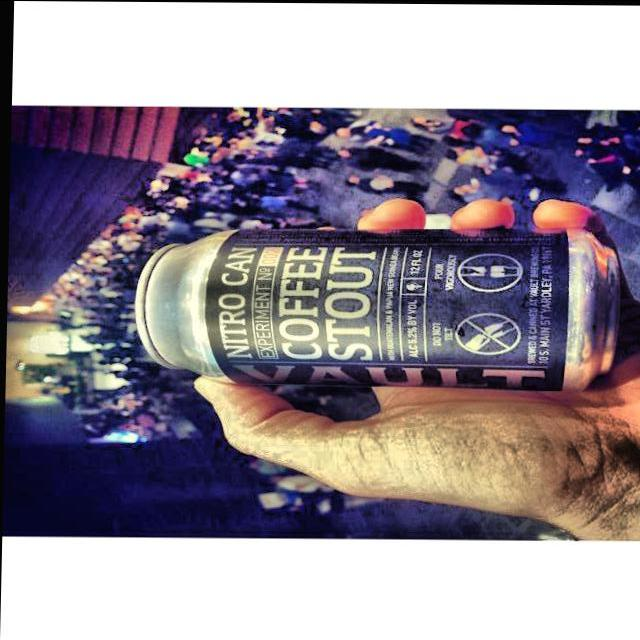Aluminum Can: (125, 222, 630, 388)
